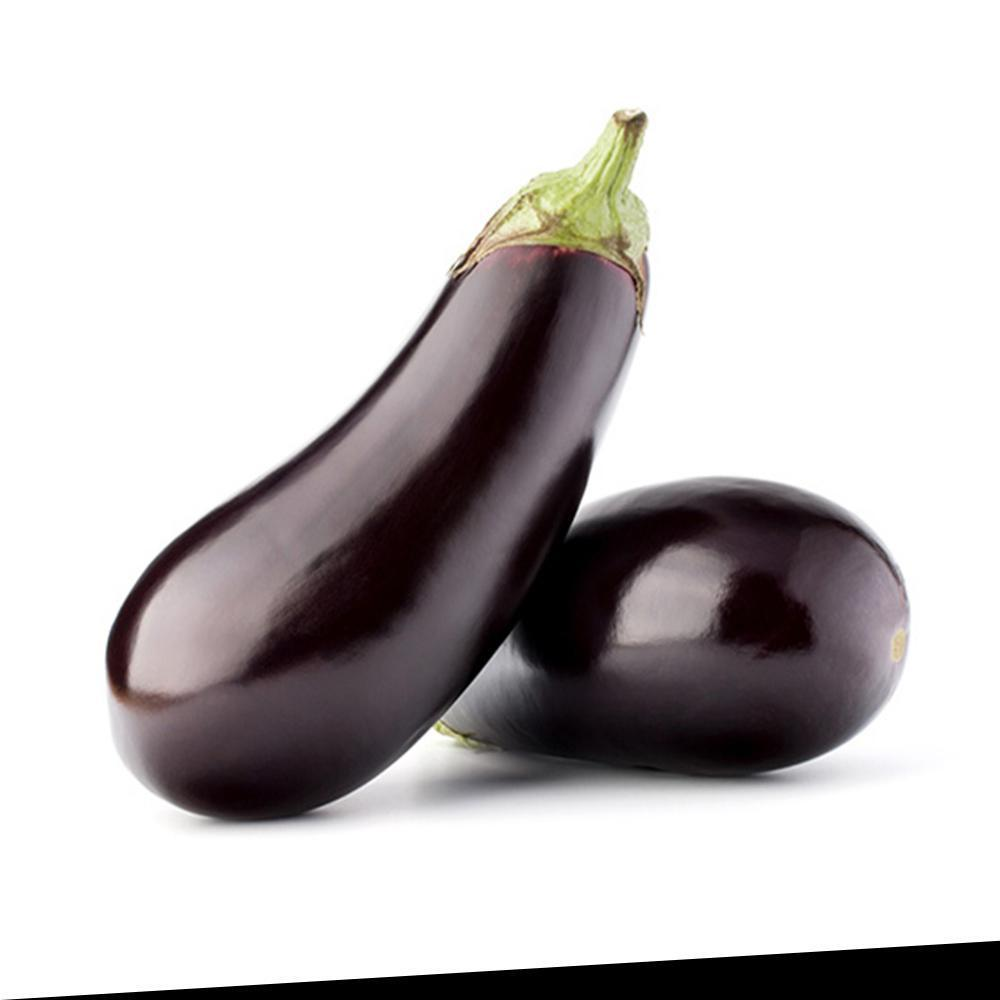eggplant: (55, 100, 911, 926)
